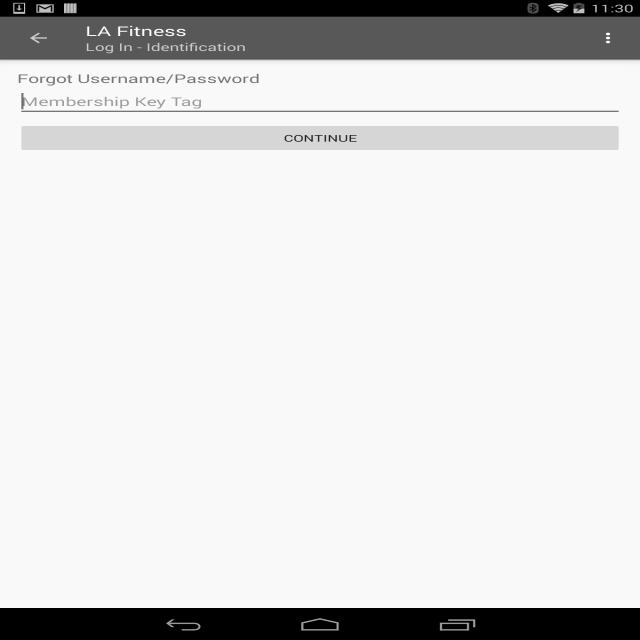Button: (17, 122, 623, 154)
EditText: (17, 86, 623, 117)
ImageButton: (9, 17, 68, 59)
ImageView: (589, 22, 631, 54)
TextView: (17, 70, 623, 86), (85, 40, 246, 54), (86, 22, 188, 40)
